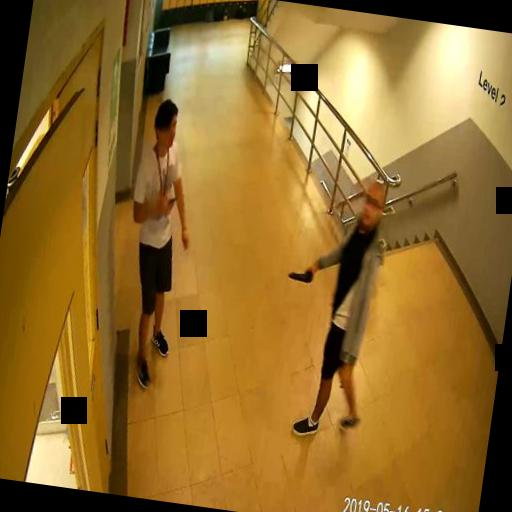Handgun: (286, 260, 315, 284)
